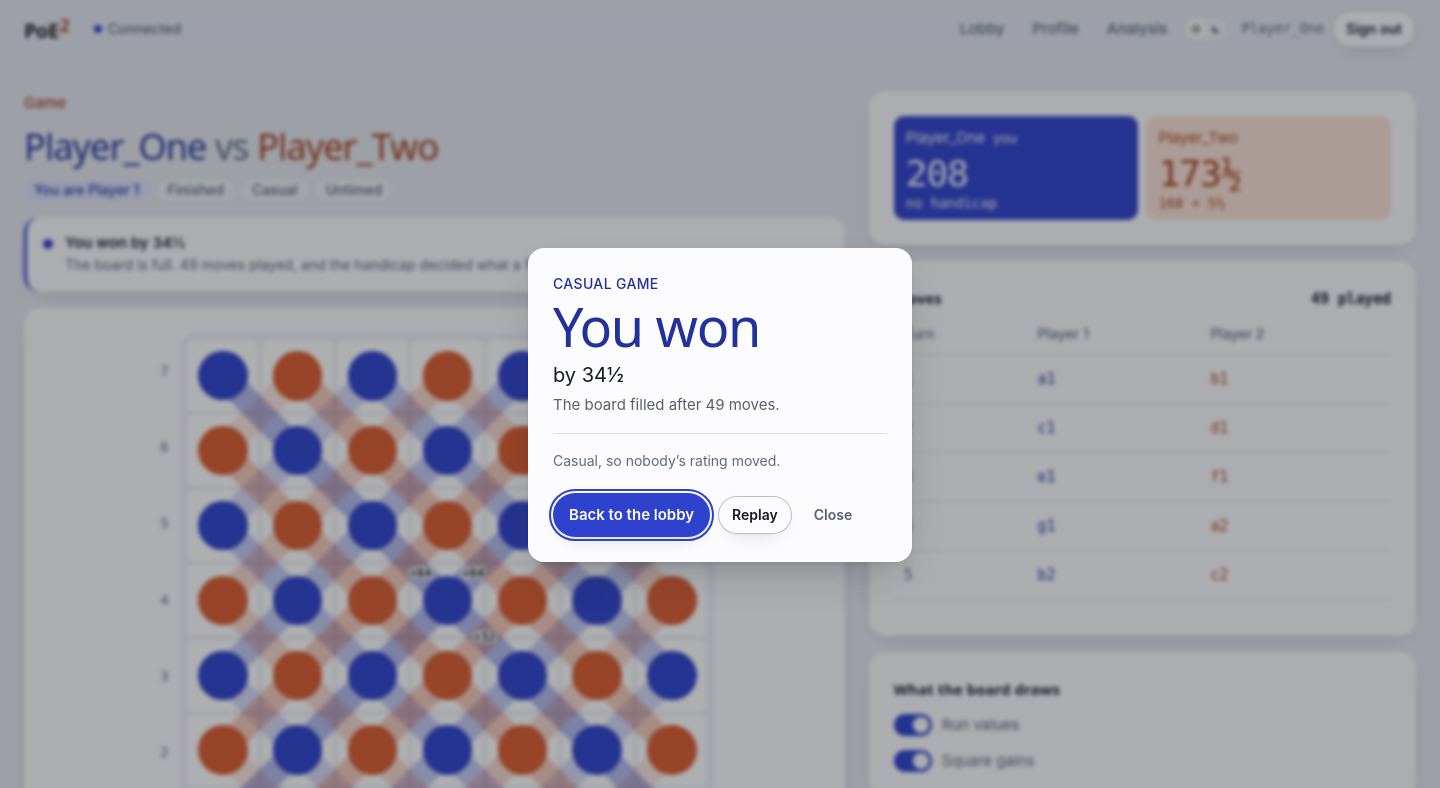
Scenario: GamePage › the result when a game ends › closes to the final board, and stays closed
Click the button "Close" at point(833, 515), box [800,496,866,534]
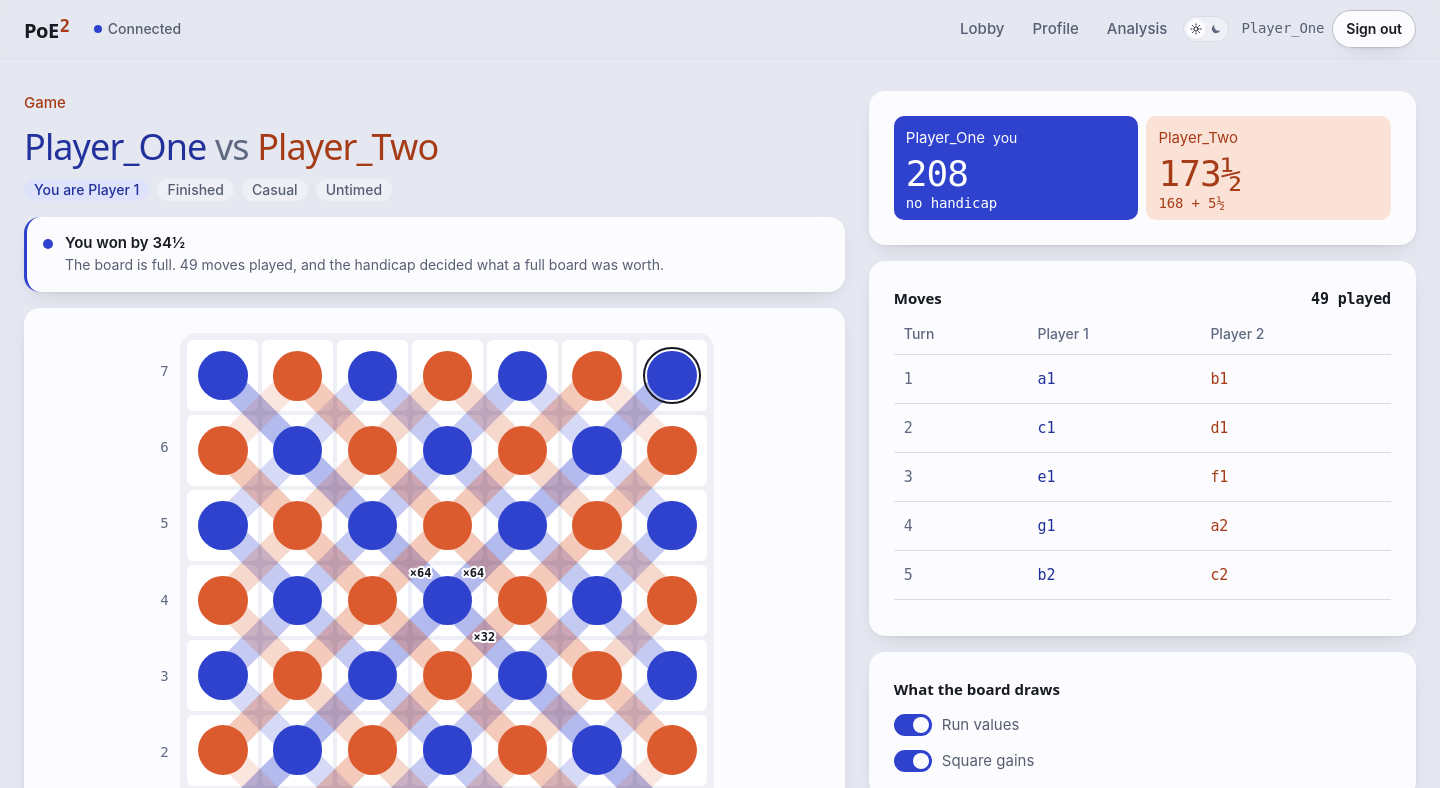
Check: the text "You won by 34½" is shown, box [65,233,185,252]
Check: the dialog is gone
